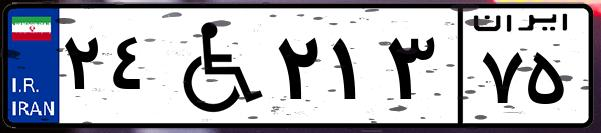1: (330, 28, 385, 110)
2: (270, 28, 330, 110), (57, 26, 110, 100)
3: (385, 28, 445, 110)
4: (110, 28, 158, 98)
5: (525, 38, 570, 115)
7: (475, 38, 525, 113)
ژ (معلولین و جانبازان): (158, 12, 270, 120)
